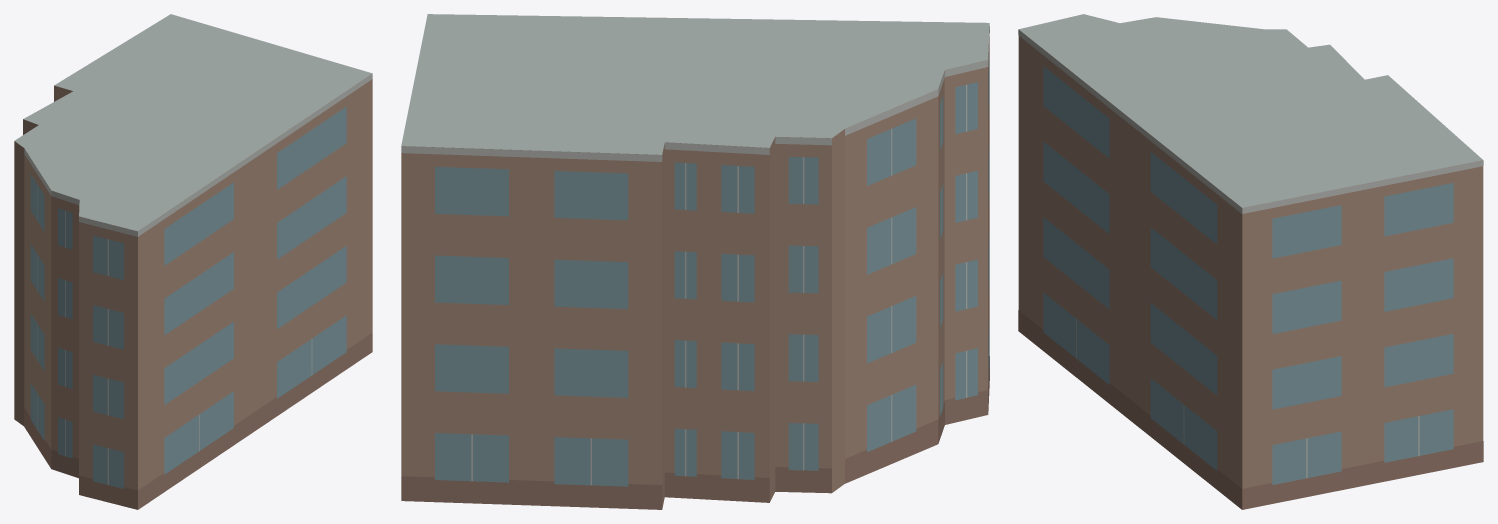
Rendered from survey-upis-32508801.glb.
The picture shows the model from 3 angles, left to right: view 1: azimuth 30°, elevation 25°; view 2: azimuth 150°, elevation 25°; view 3: azimuth 270°, elevation 25°; orthographic projection. The views are drawn at different scales.
Visible parts, largest first — view 1: survey-upis-32508801.tmp; view 2: survey-upis-32508801.tmp; view 3: survey-upis-32508801.tmp.
Boxes of the visible parts, x1,y1,x2,y2 form: survey-upis-32508801.tmp: (14, 14, 372, 509); survey-upis-32508801.tmp: (401, 14, 989, 509); survey-upis-32508801.tmp: (1018, 14, 1483, 509).
Size of the model in its own units: 16.82 by 12.2 by 17.04.
